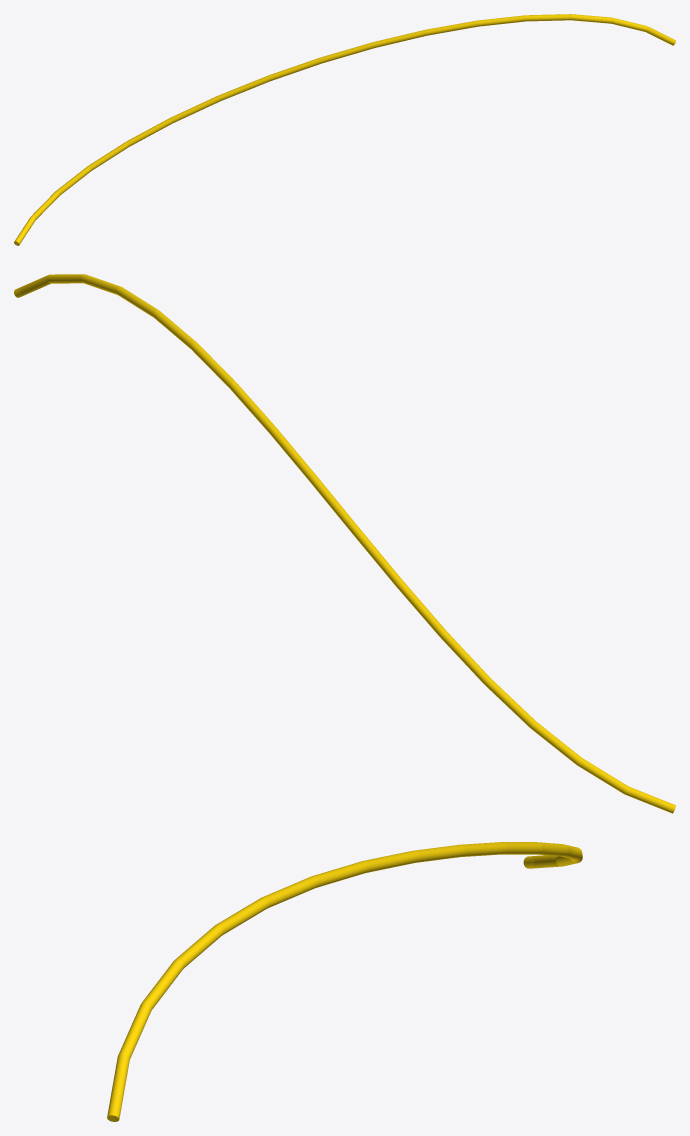
The model's file is Event_421115418_track_141.fbx.
3 views of the same model, one above another, from view 1: azimuth 30°, elevation 25°; view 2: azimuth 150°, elevation 25°; view 3: azimuth 270°, elevation 25° (orthographic). The views are drawn at different scales.
Parts seen in each view (by area): view 1: Model; view 2: Model; view 3: Model.
Part boxes in pixels (box(x1,y1,x2,y2)): Model: box(14, 14, 675, 245); Model: box(14, 274, 675, 813); Model: box(107, 842, 582, 1121).
Bounding box in the file's own units: 4.11 × 1.29 × 1.52.
